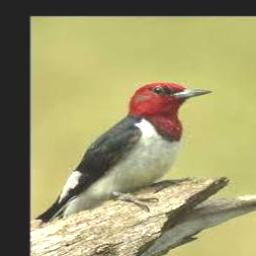Woodpecker: (36, 82, 213, 224)
